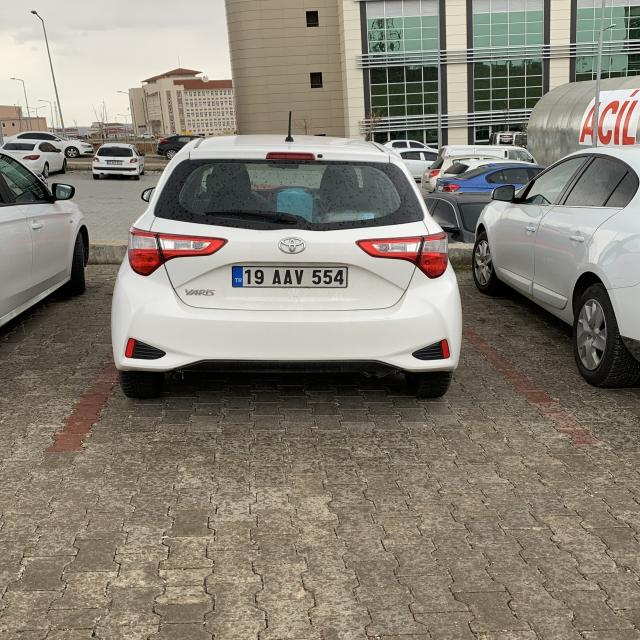license_plate: (232, 266, 348, 288)
